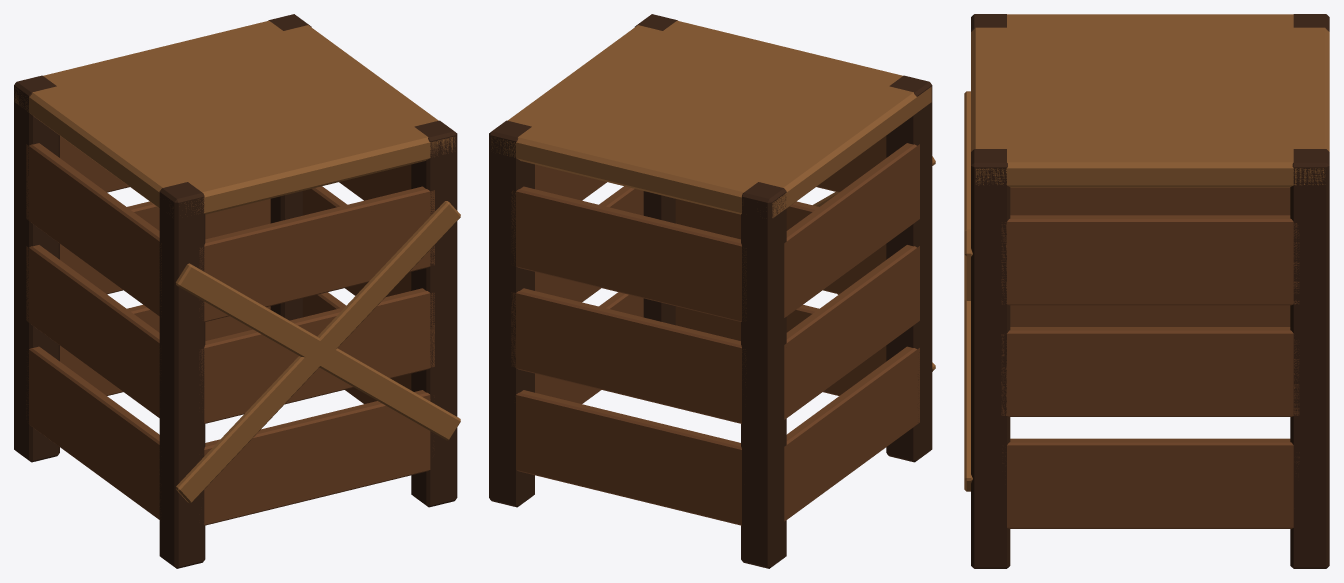
The model's file is crate_wood.glb.
The picture shows the model from 3 angles, left to right: view 1: azimuth 30°, elevation 25°; view 2: azimuth 150°, elevation 25°; view 3: azimuth 270°, elevation 25°; orthographic projection. The views are drawn at different scales.
Visible parts, largest first — view 1: crate_wood; view 2: crate_wood; view 3: crate_wood.
Part boxes in pixels (x1=…): crate_wood: x1=14, y1=14, x2=460, y2=568; crate_wood: x1=489, y1=14, x2=935, y2=568; crate_wood: x1=964, y1=14, x2=1329, y2=568.
Bounding box in the file's own units: 0.6405 × 0.8 × 0.652.
